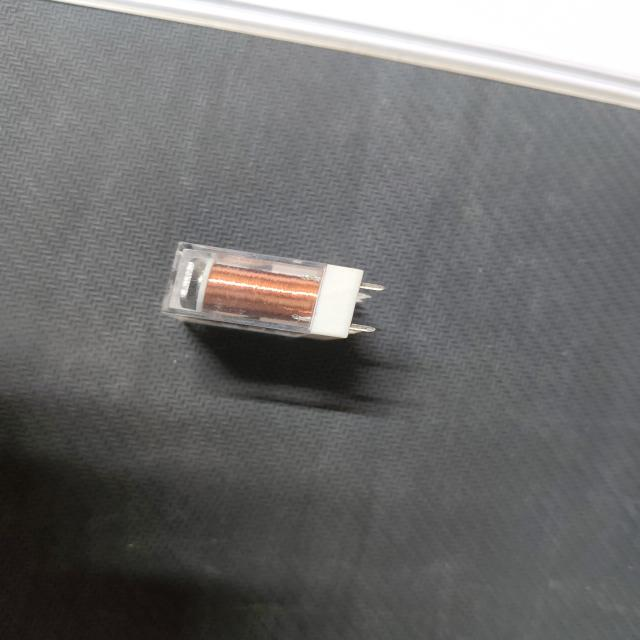relay: (154, 232, 396, 357)
